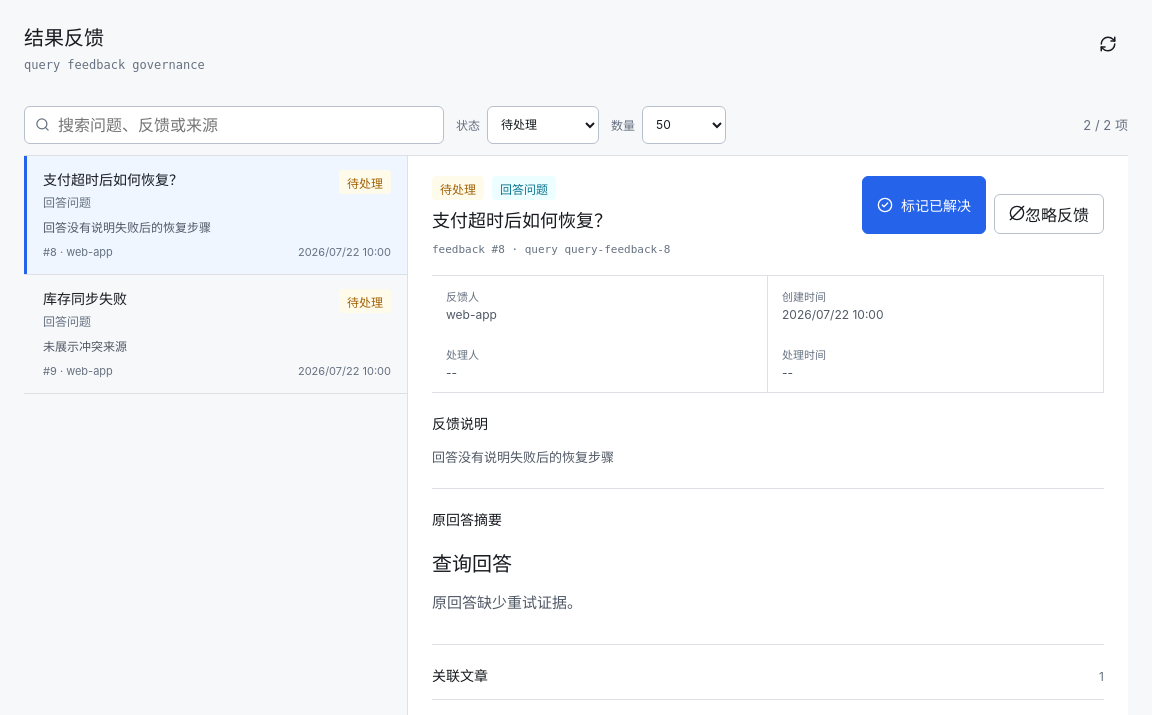
Test: feedback page › shows feedback evidence and audit history and filters the client list
Expected: the heading "支付超时后如何恢复？" is shown, [432, 210, 612, 231]
Expected: the element named "反馈关联的原回答摘要" shows "原回答缺少重试证据", [432, 593, 582, 612]
In the search field named "搜索结果反馈": (246, 124) [58, 114, 433, 134], type "库存"
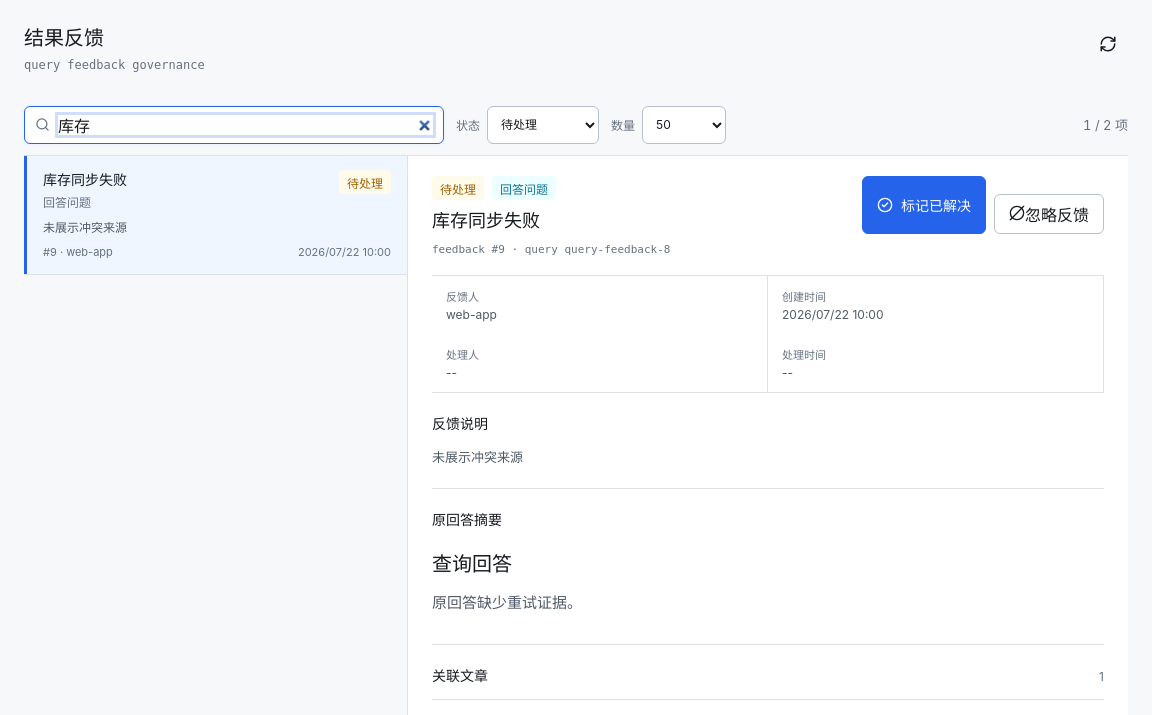
Expected: the heading "库存同步失败" is shown, [432, 210, 540, 231]
Expected: the button "支付超时后如何恢复？" is gone
